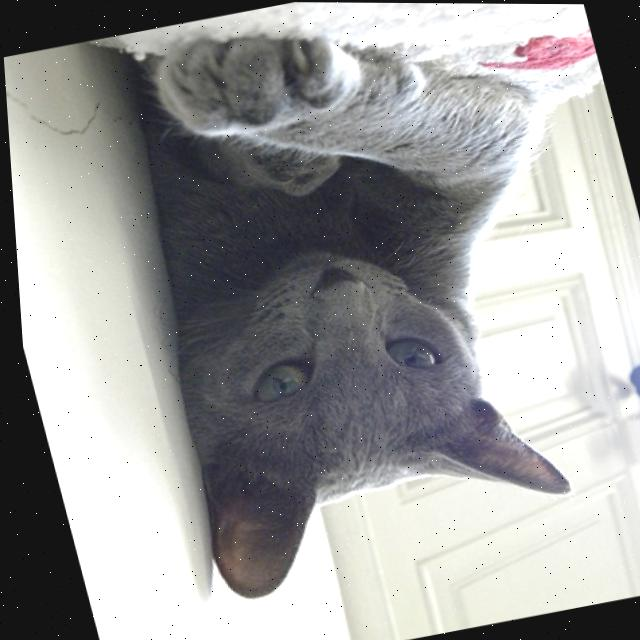Russian Blue: (77, 0, 640, 611)
